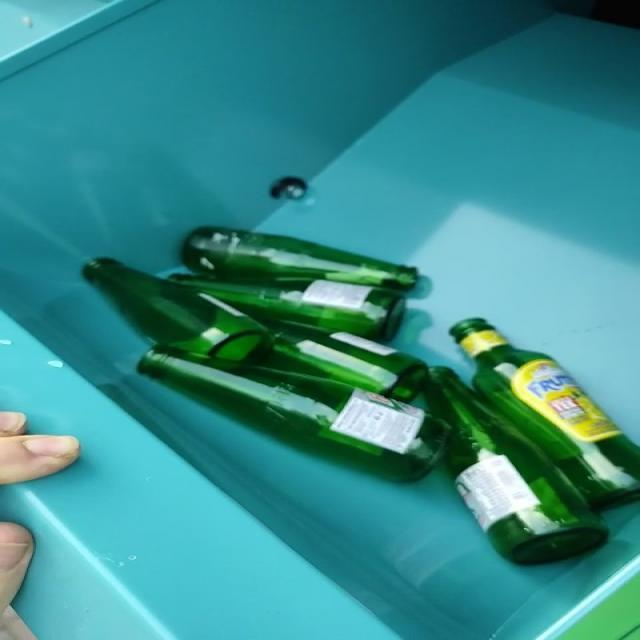Glass: (83, 228, 640, 565)
